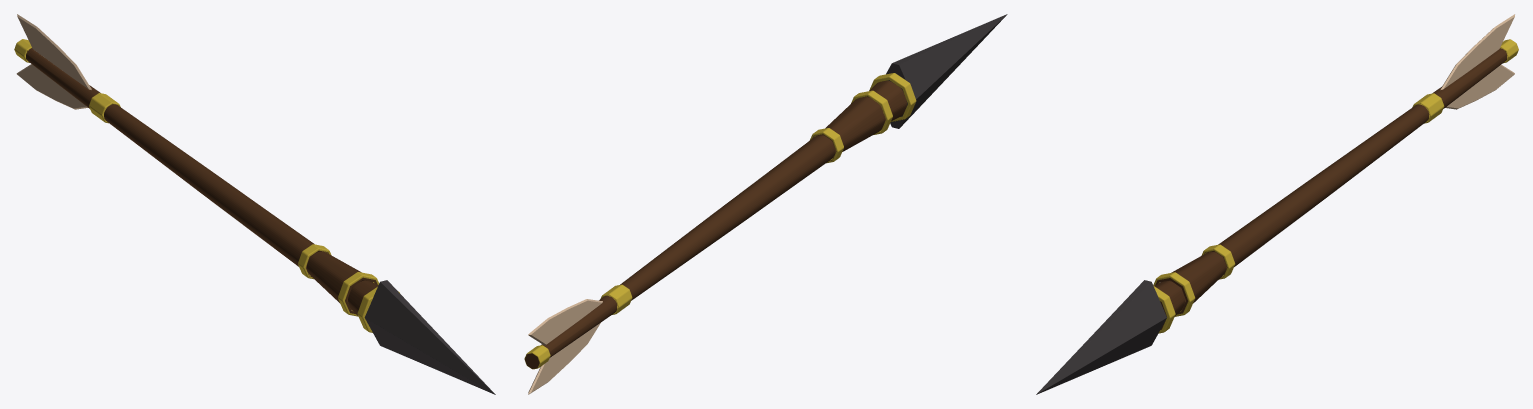
File: Arrow_B.fbx
The picture shows the model from 3 angles, left to right: view 1: azimuth 30°, elevation 25°; view 2: azimuth 150°, elevation 25°; view 3: azimuth 330°, elevation 25°; orthographic projection.
Parts seen in each view (by area): view 1: Arrow; view 2: Arrow; view 3: Arrow.
Boxes of the visible parts, x1,y1,x2,y2 form: Arrow: (14, 14, 495, 394); Arrow: (524, 14, 1007, 394); Arrow: (1036, 14, 1518, 394).
Bounding box in the file's own units: 2.49 × 3.5 × 47.23.
